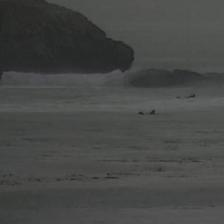surfer: (176, 93, 196, 98), (138, 109, 156, 114)
